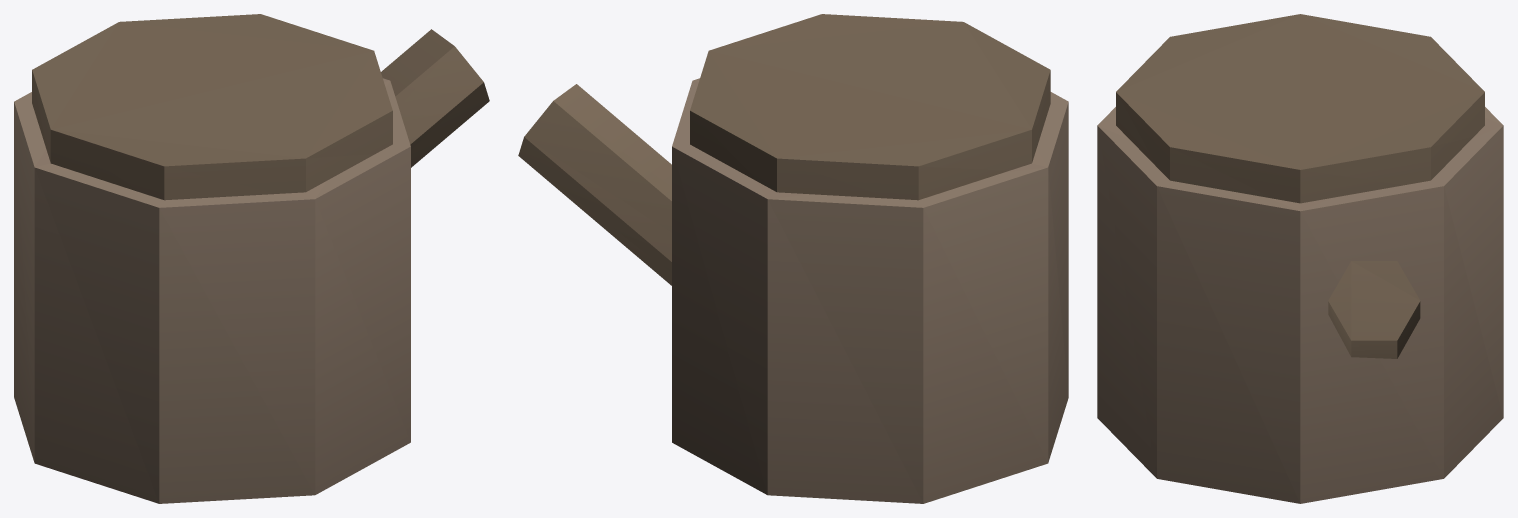
Rendered from stump.glb.
3 renders of one model, left to right at view 1: azimuth 30°, elevation 25°; view 2: azimuth 150°, elevation 25°; view 3: azimuth 270°, elevation 25°, orthographic.
Visible parts, largest first — view 1: stump; view 2: stump; view 3: stump.
Boxes of the visible parts, x1,y1,x2,y2 form: stump: (14, 14, 489, 503); stump: (518, 14, 1068, 503); stump: (1097, 14, 1503, 503).
Bounding box in the file's own units: 0.5949 × 0.39 × 0.44.
